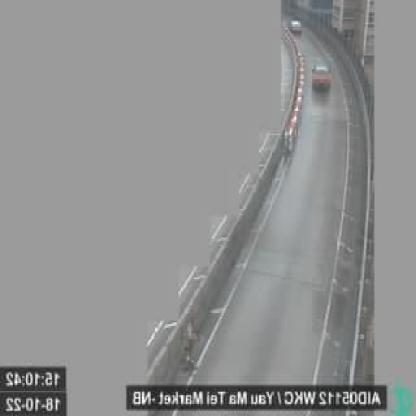Car: (310, 60, 333, 92), (286, 16, 302, 36)
